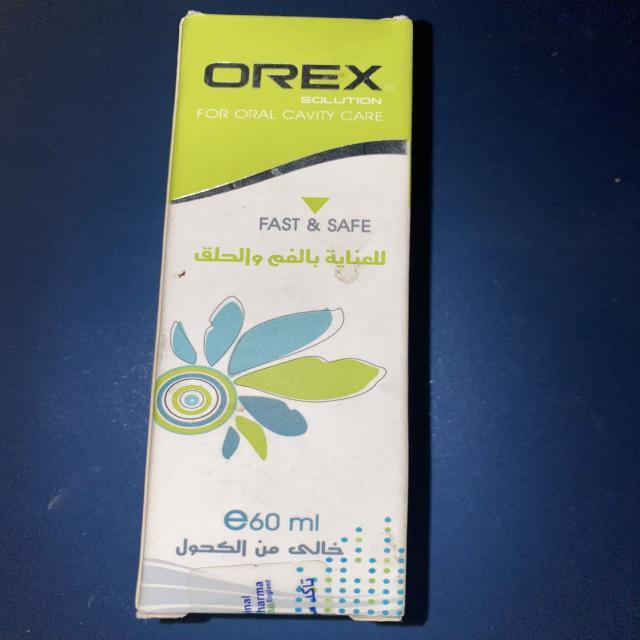Medicine Name: (190, 54, 401, 95)
